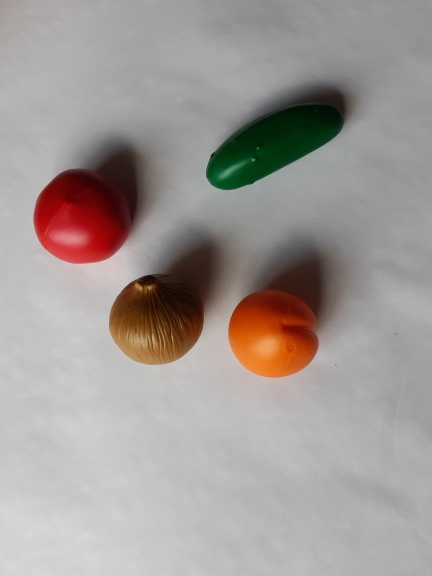apricot: (224, 285, 326, 382)
cucumber: (199, 93, 351, 196)
onion: (105, 269, 213, 368)
tomato: (30, 163, 139, 272)
